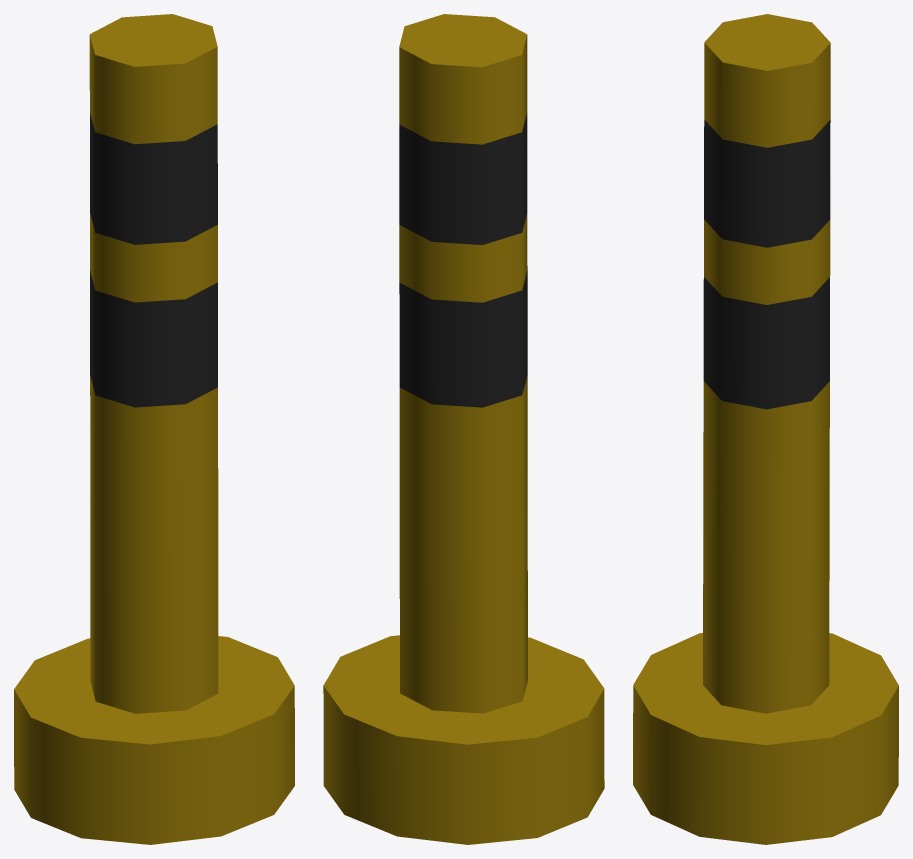
The model's file is column_04.fbx.
The picture shows the model from 3 angles, left to right: view 1: azimuth 30°, elevation 25°; view 2: azimuth 150°, elevation 25°; view 3: azimuth 270°, elevation 25°; orthographic projection.
Visible parts, largest first — view 1: column_04; view 2: column_04; view 3: column_04.
Boxes of the visible parts, bbox=[...] form: column_04: bbox=[14, 14, 294, 844]; column_04: bbox=[323, 14, 604, 844]; column_04: bbox=[633, 14, 898, 844].
Size of the model in its own units: 40.16 by 116 by 37.66.
